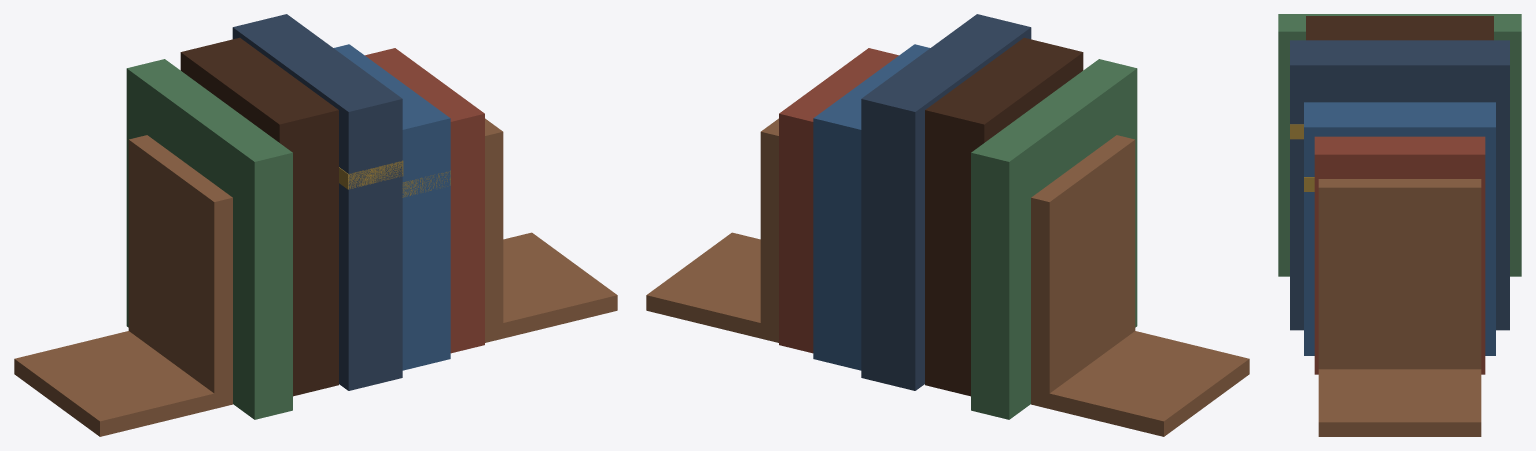
File: book-stack-36.glb
3 views of the same model, side by side, from view 1: azimuth 30°, elevation 25°; view 2: azimuth 150°, elevation 25°; view 3: azimuth 270°, elevation 25° (orthographic). The views are drawn at different scales.
Parts seen in each view (by area): view 1: book_stack_36; view 2: book_stack_36; view 3: book_stack_36.
Part boxes in pixels (x1,y1,x2,y2): book_stack_36: [14, 14, 617, 436]; book_stack_36: [646, 14, 1249, 436]; book_stack_36: [1278, 14, 1521, 436].
Bounding box in the file's own units: 0.4188 × 0.2158 × 0.1795.
